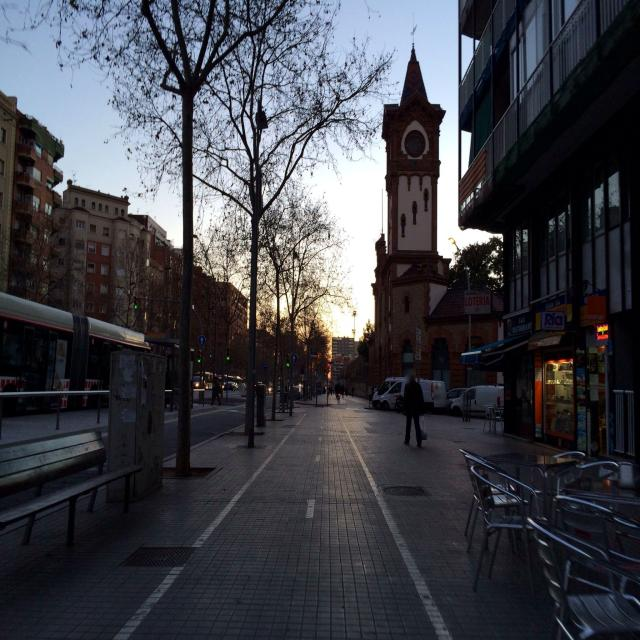car: (378, 376, 446, 413), (448, 384, 504, 418), (370, 377, 406, 411)
